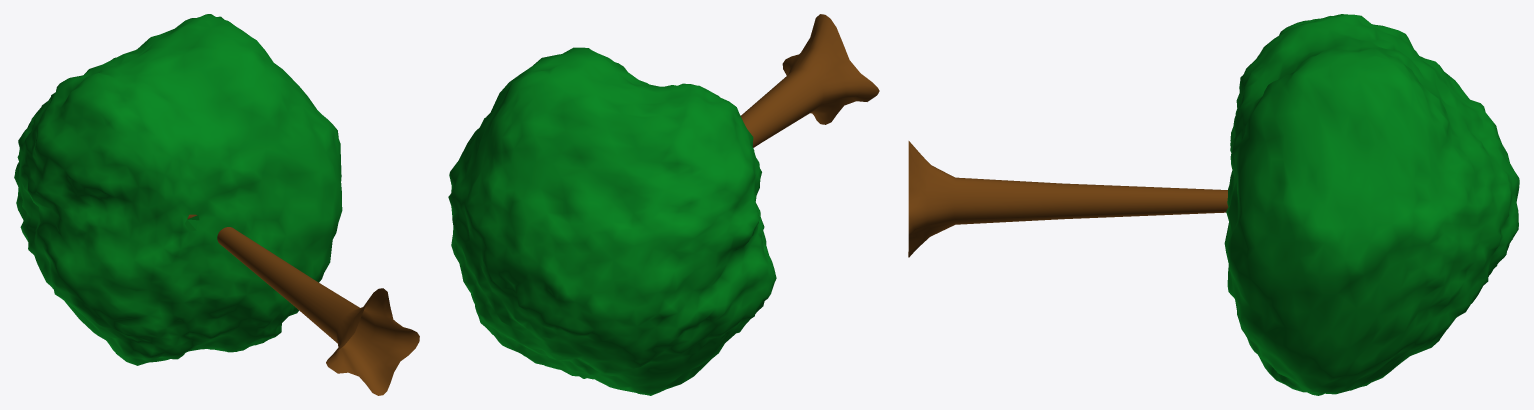
The model's file is copac_1.fbx.
3 views of the same model, side by side, from view 1: azimuth 30°, elevation 25°; view 2: azimuth 150°, elevation 25°; view 3: azimuth 270°, elevation 25° (orthographic). The views are drawn at different scales.
Parts seen in each view (by area): view 1: tree; view 2: tree; view 3: tree.
Part boxes in pixels (left/top/right/bottom): tree: left=14, top=14, right=419, bottom=395; tree: left=448, top=14, right=879, bottom=395; tree: left=908, top=14, right=1519, bottom=395.
Size of the model in its own units: 447 by 460 by 761.
